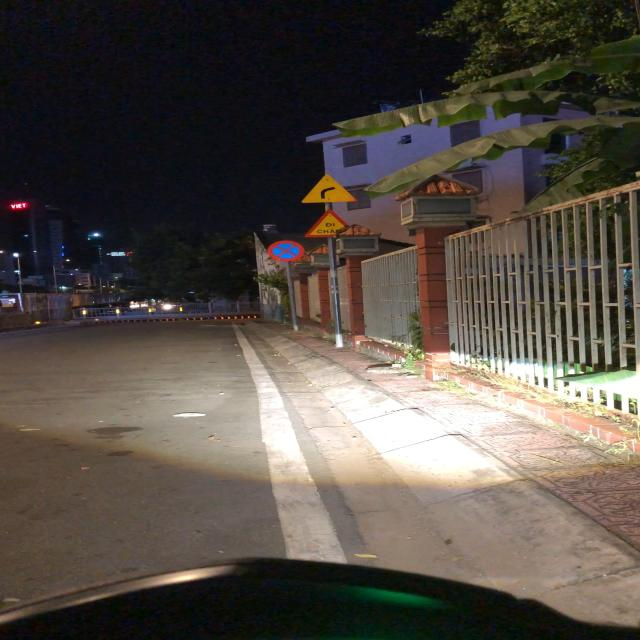Bien bao cam dung xe va do xe: (267, 240, 306, 262)
Bien bao cho ngoat nguy hiem: (300, 172, 358, 204)
Bien bao di cham: (303, 208, 352, 238)
